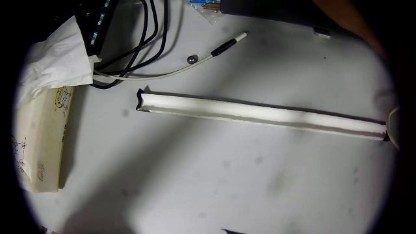gangzhu: (185, 54, 195, 65)
